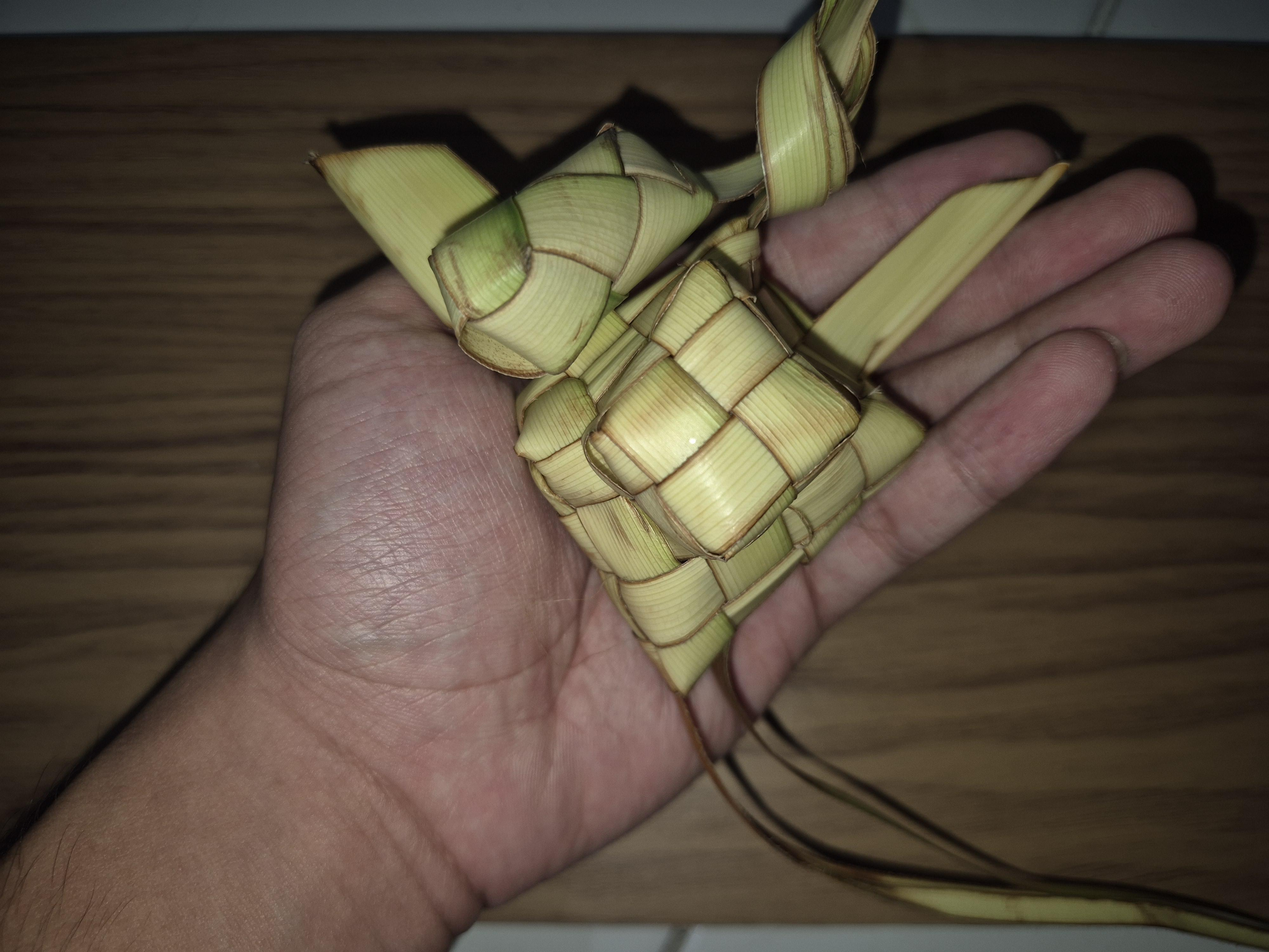Tipat Gong: (347, 322, 1099, 693)
